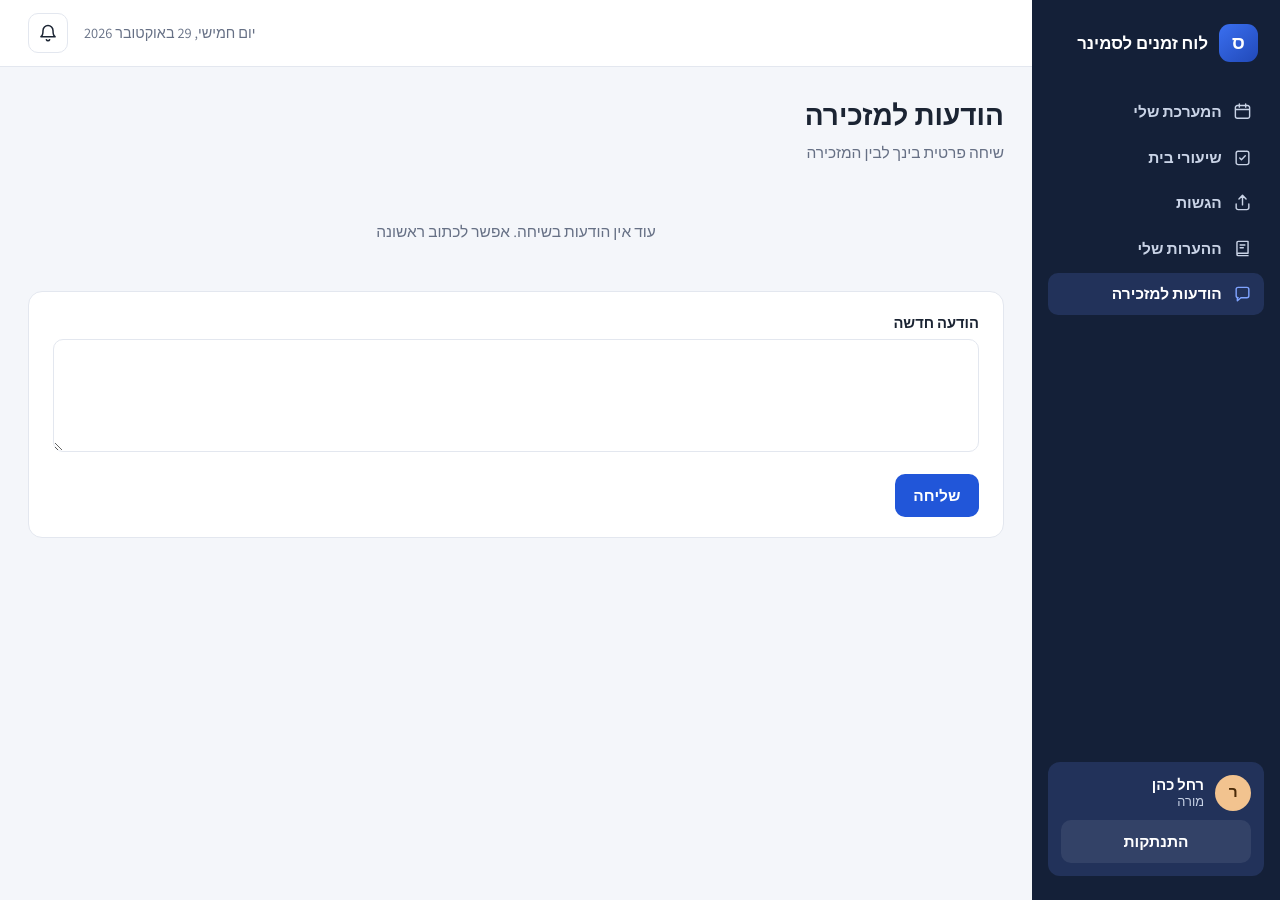
Test case: הודעות מורה למזכירה › הודעה ריקה נדחית בצד הלקוח
Click the button "שליחה": (937, 495) [895, 474, 979, 517]
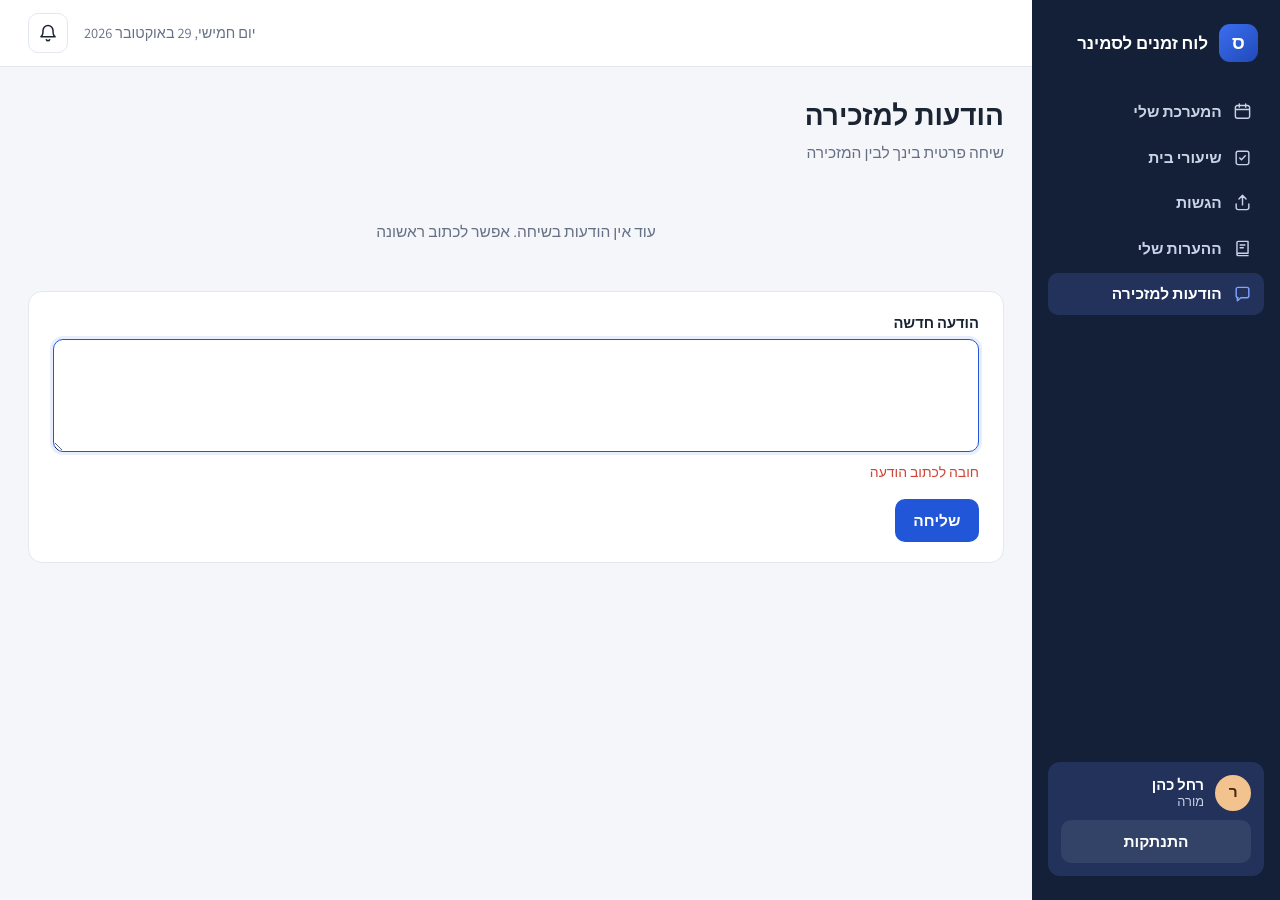
Check: the text "חובה לכתוב הודעה" is shown, box [870, 463, 979, 481]
